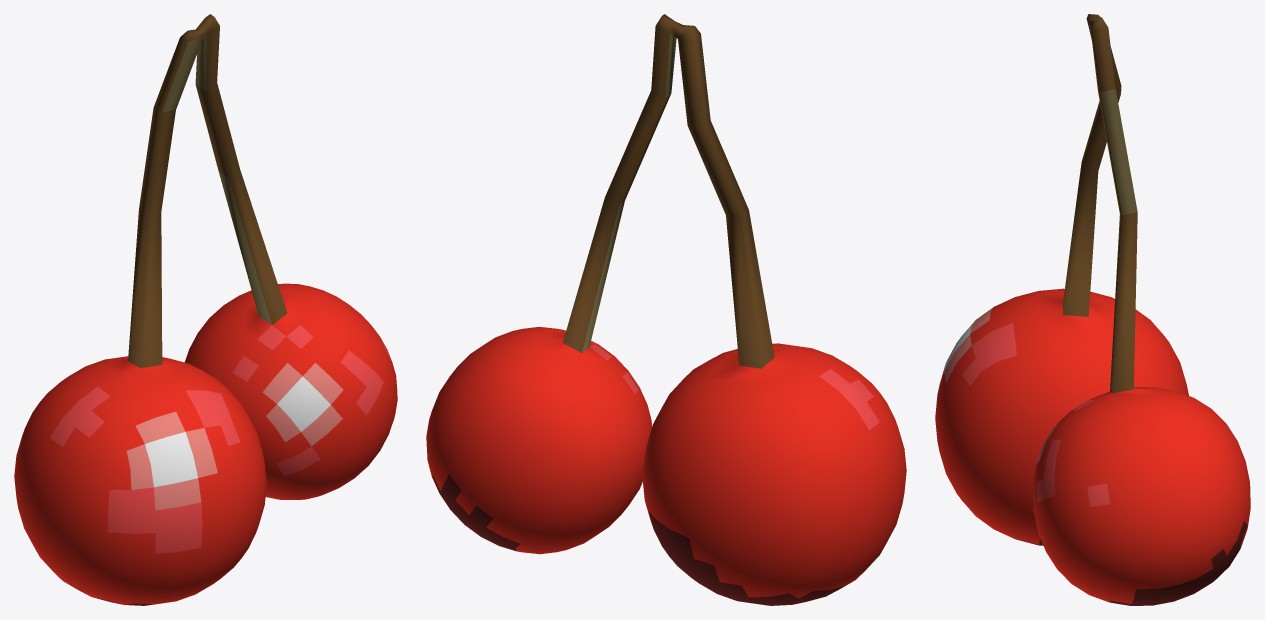
Rendered from Cherry.fbx.
3 renders of one model, left to right at view 1: azimuth 30°, elevation 25°; view 2: azimuth 150°, elevation 25°; view 3: azimuth 270°, elevation 25°, orthographic. The views are drawn at different scales.
Visible parts, largest first — view 1: Cube; view 2: Cube; view 3: Cube.
Boxes of the visible parts, x1,y1,x2,y2 form: Cube: (14,14,397,605); Cube: (426,14,906,605); Cube: (935,14,1250,605).
Bounding box in the file's own units: 303 × 406 × 207.
